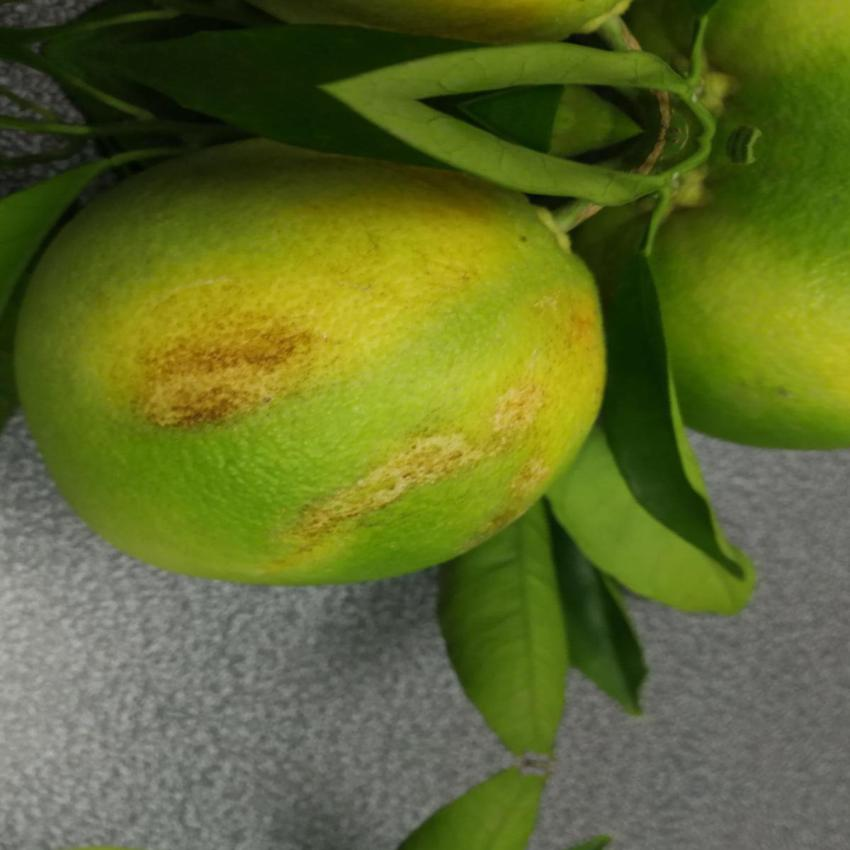Mal estado: (23, 150, 638, 620)
